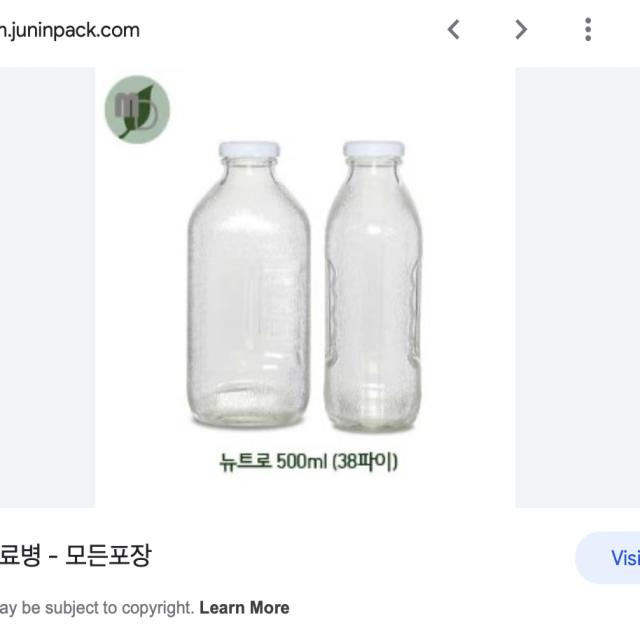recyclable: (164, 156, 324, 436), (326, 153, 428, 435)
